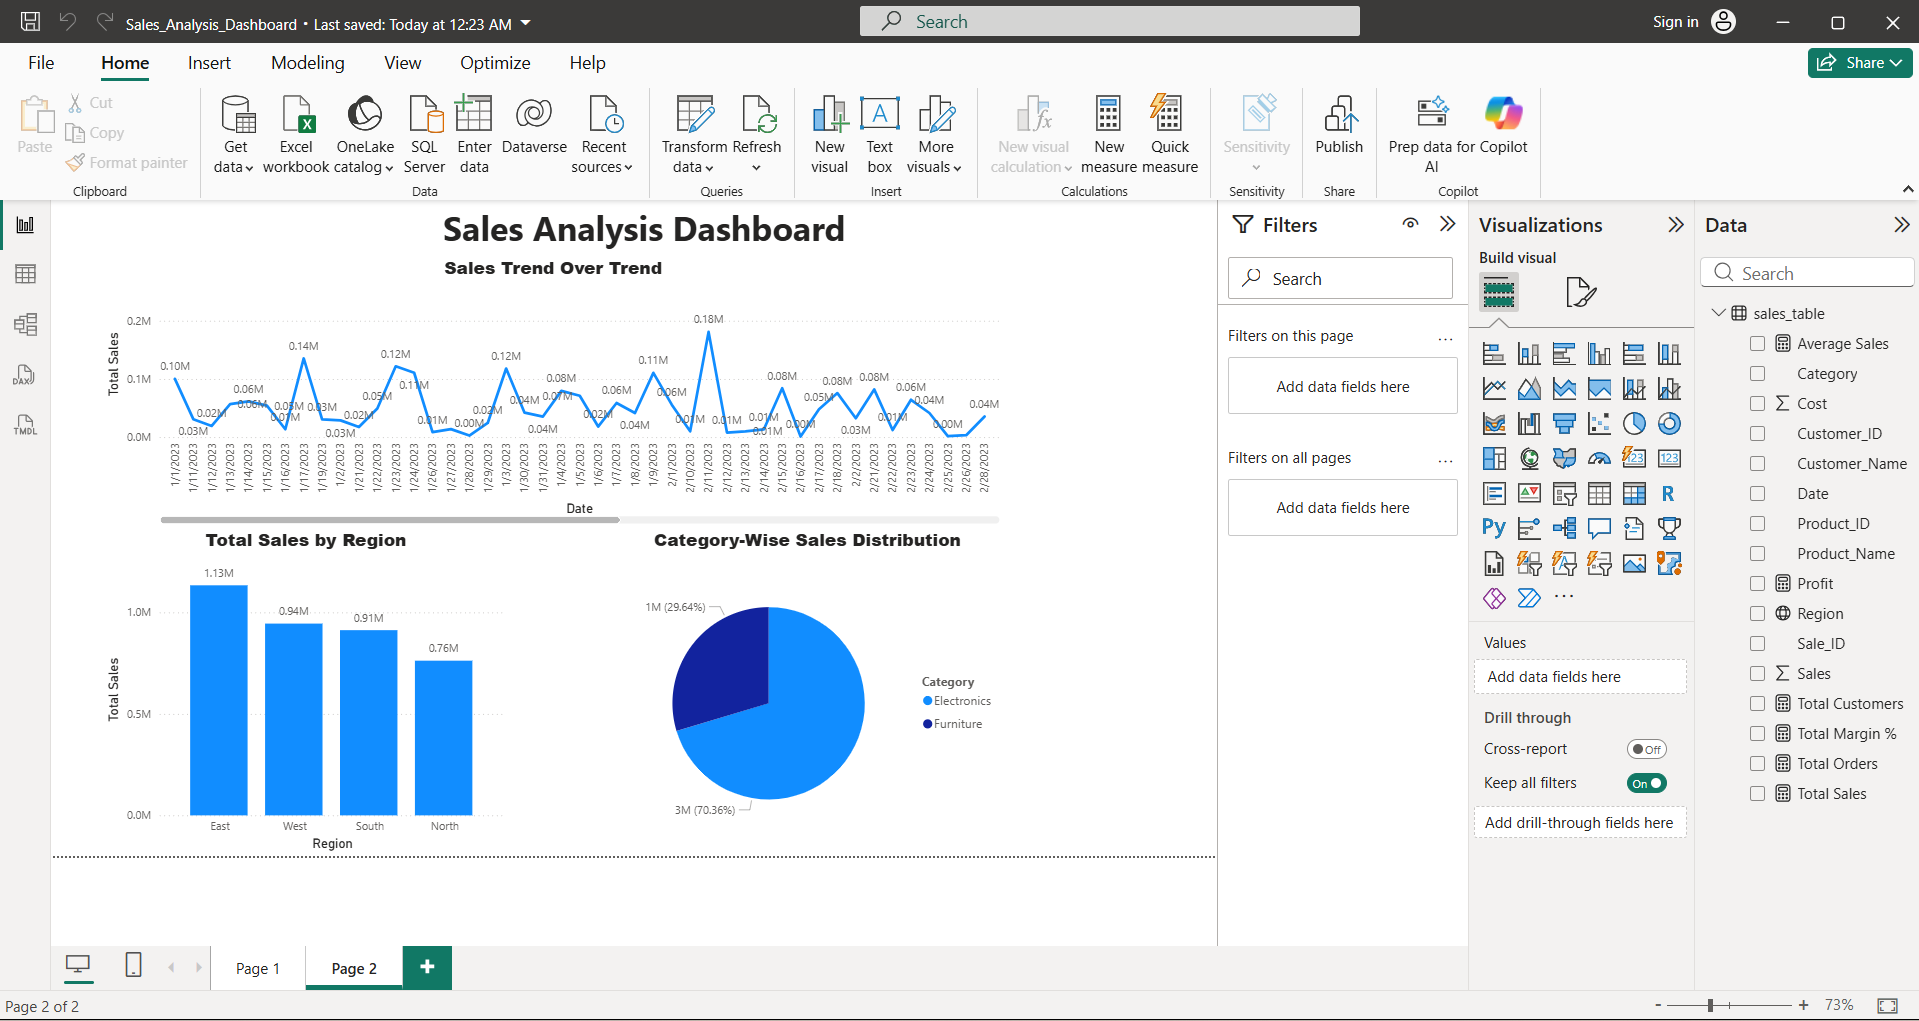

The dashboard page shown, as its layout file describes it:
{"tool":"powerbi","page":{"name":"Page 2","canvas":[1280,720],"ordinal":1},"visuals":[{"type":"lineChart","title":"Sales Trend Over Trend","fields":{"Y":["sales_table.Total Sales"],"Category":["sales_table.Date"]},"box":[55.7,60,990,300],"z":0},{"type":"pieChart","title":"Category-Wise Sales Distribution","fields":{"Category":["sales_table.Category"],"Y":["sales_table.Total Sales"]},"box":[614.3,360,431.4,360],"z":1},{"type":"clusteredColumnChart","title":"Total Sales by Region","fields":{"Category":["sales_table.Region"],"Y":["sales_table.Total Sales"]},"box":[55.7,360,447.1,360],"z":2},{"type":"textbox","box":[425.7,0,481.4,71.4],"z":3}]}

Visuals, with their boxes on the page's 1280x720 design canvas (x1, y1, x2, y2). These are canvas units, not pixel positions in the 1919x1021 screenshot, which may show the page scaled, cropped or inside an application window:
"Sales Trend Over Trend" lineChart: [56,60,1046,360]
"Category-Wise Sales Distribution" pieChart: [614,360,1046,720]
"Total Sales by Region" clusteredColumnChart: [56,360,503,720]
textbox: [426,0,907,71]
